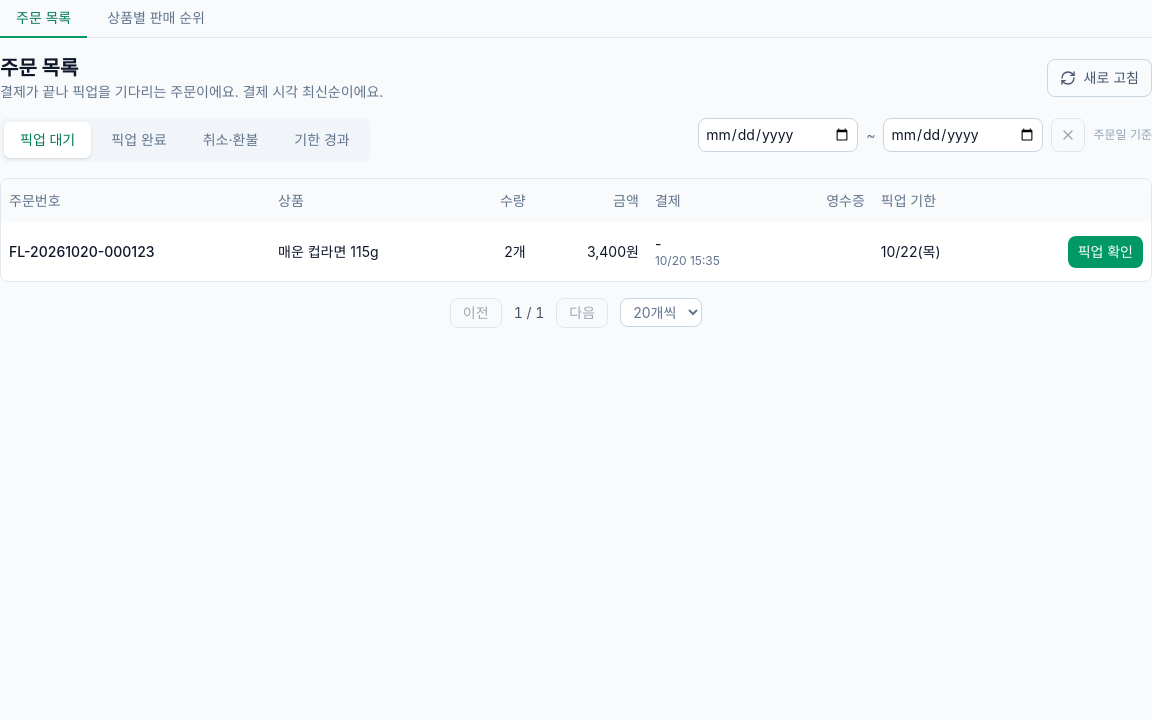
Test: 점주 주문 목록 (S-50·A5·A6) › 확인 창에서 [취소]하면 아무 요청도 보내지 않는다
Click the button with aria-label "FL-20261020-000123 픽업 확인" at coordinates (1105, 252), box [1068,236,1143,268]
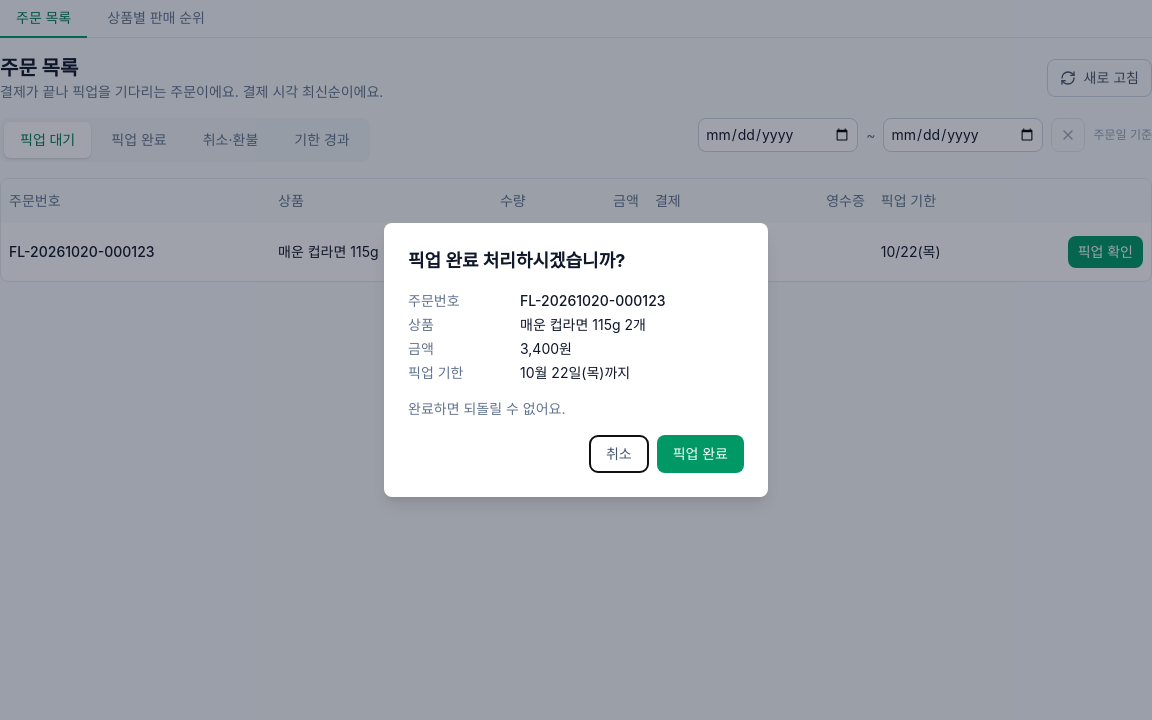
Click the button "취소" at coordinates (619, 454), box [589,435,649,473]
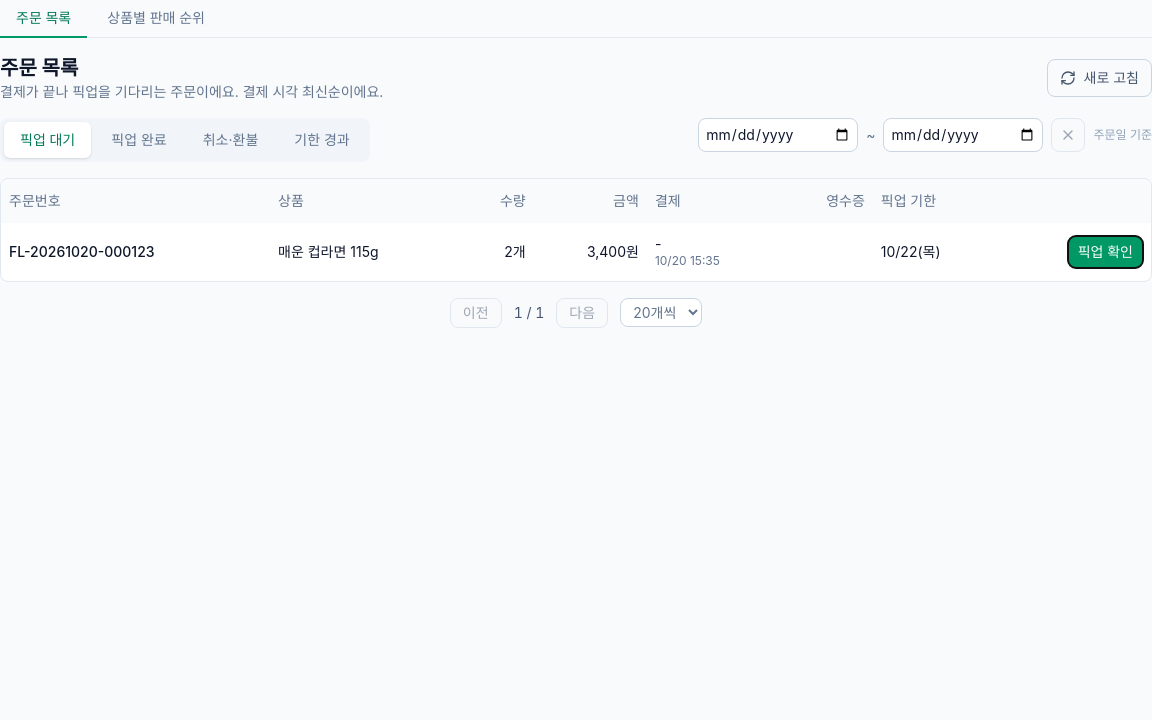
Expected: the dialog is gone
